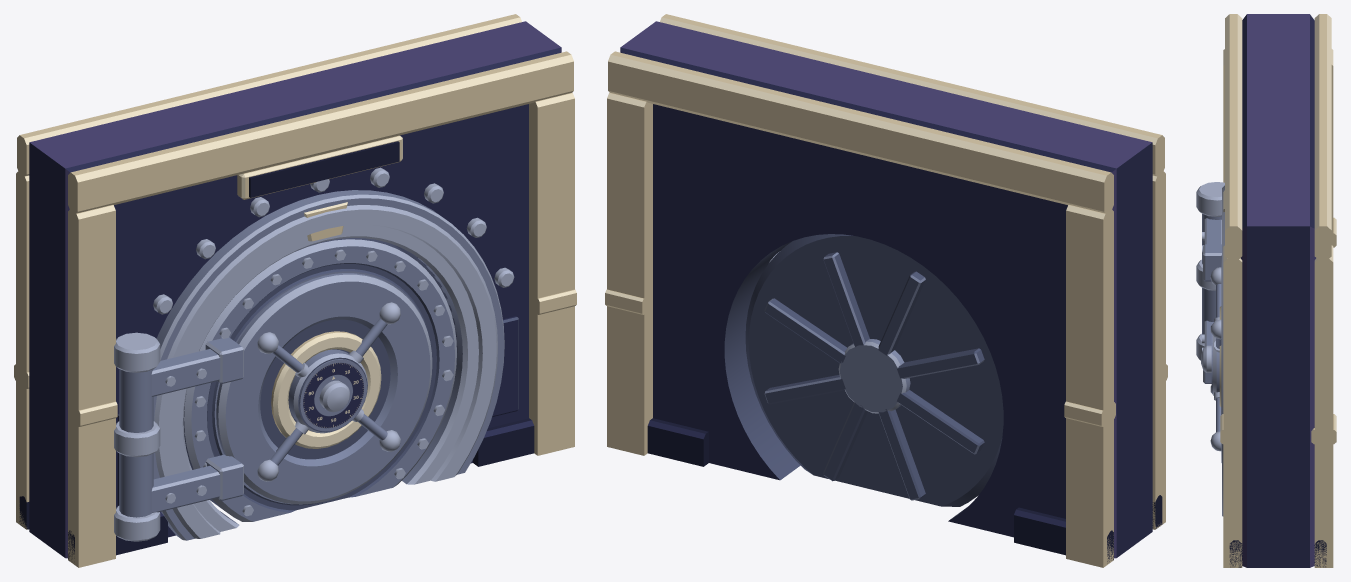
File: VaultDoor.fbx
3 renders of one model, left to right at view 1: azimuth 30°, elevation 25°; view 2: azimuth 150°, elevation 25°; view 3: azimuth 270°, elevation 25°, orthographic. The views are drawn at different scales.
Parts seen in each view (by area): view 1: VaultDoor_Frame, VaultDoor_Door, VaultDoor_Dial, VaultDoor_DialRing, VaultDoor_DialFace; view 2: VaultDoor_Frame, VaultDoor_Door; view 3: VaultDoor_Frame, VaultDoor_Door, VaultDoor_Dial, VaultDoor_DialRing.
Boxes of the visible parts, x1,y1,x2,y2 form: VaultDoor_Frame: (14,14,576,567); VaultDoor_Door: (114,238,456,541); VaultDoor_Dial: (257,302,400,481); VaultDoor_DialRing: (271,331,381,448); VaultDoor_DialFace: (299,359,366,431); VaultDoor_Frame: (605,14,1167,567); VaultDoor_Door: (745,234,1003,506); VaultDoor_Frame: (1220,14,1336,567); VaultDoor_Door: (1196,182,1224,462); VaultDoor_Dial: (1201,267,1221,451); VaultDoor_DialRing: (1219,306,1221,406).
Bounding box in the file's own units: 16 × 12 × 4.46.
2 materials, 2 textured.
